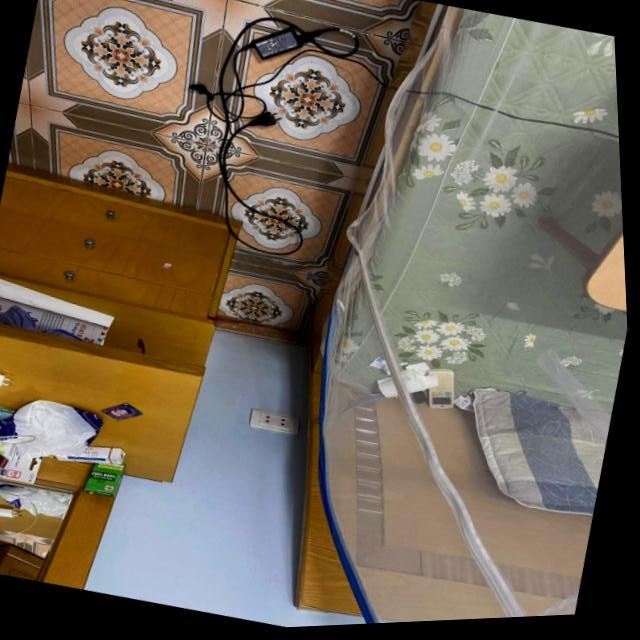outlet: (246, 406, 301, 439)
